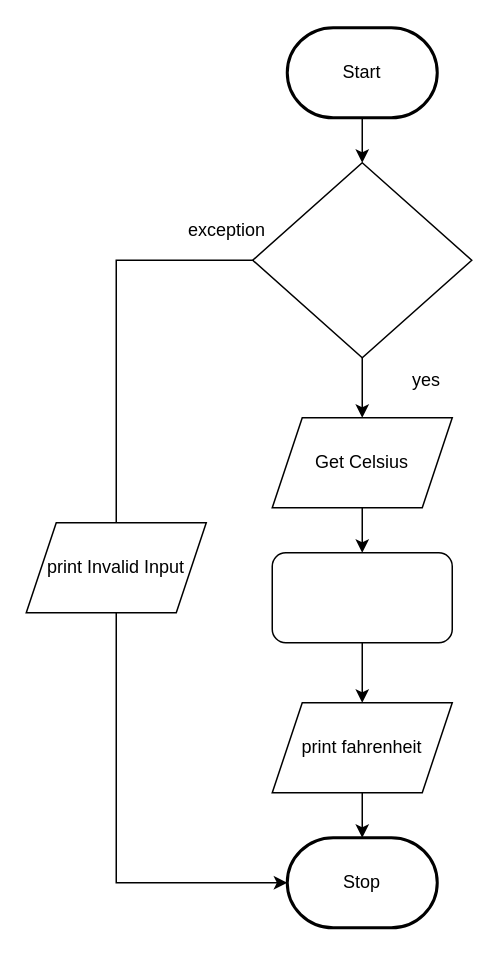
Image size: 498x954. Some labels were removed from this diagram. Here are the shapes that lost their labels. From the top down, the box of each, then its label:
(251, 161, 472, 358): try
(271, 551, 452, 643): fahrenheit = round (( temperature * 9 / 5 ) + 32 , 2 )
